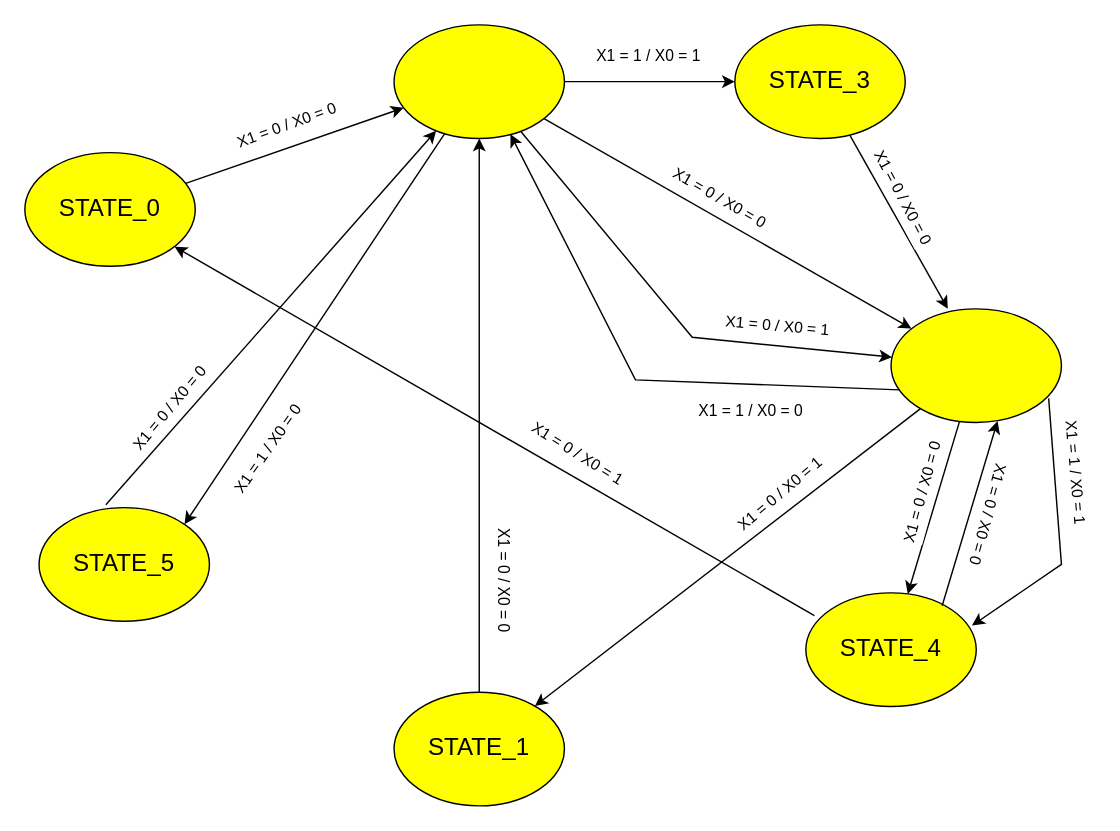
This 1120x831 diagram has some shape labels left out. Each missing label, with the centre of its shape:
STATE_2: [975,364]
STATE_6: [478,80]
